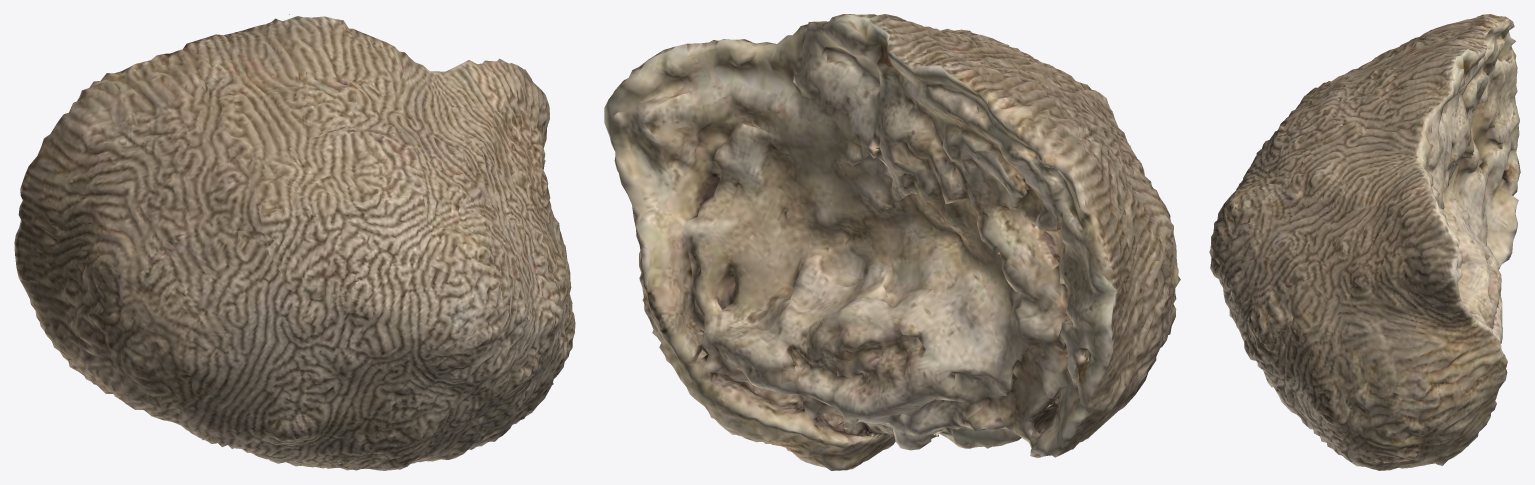
File: meandrina.glb
3 views of the same model, side by side, from view 1: azimuth 30°, elevation 25°; view 2: azimuth 150°, elevation 25°; view 3: azimuth 270°, elevation 25° (orthographic). The views are drawn at different scales.
Bounding box in the file's own units: 0.4002 × 0.3411 × 0.2545.
1 material, 1 textured.
